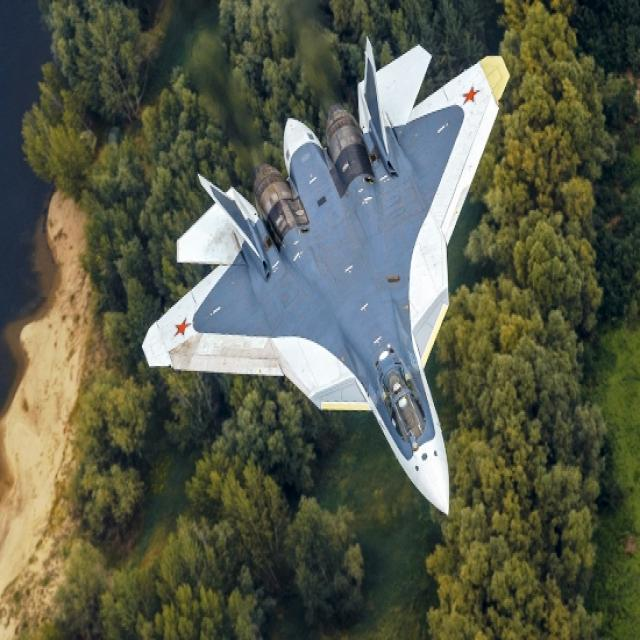MIL_Plane: (141, 36, 511, 517)
